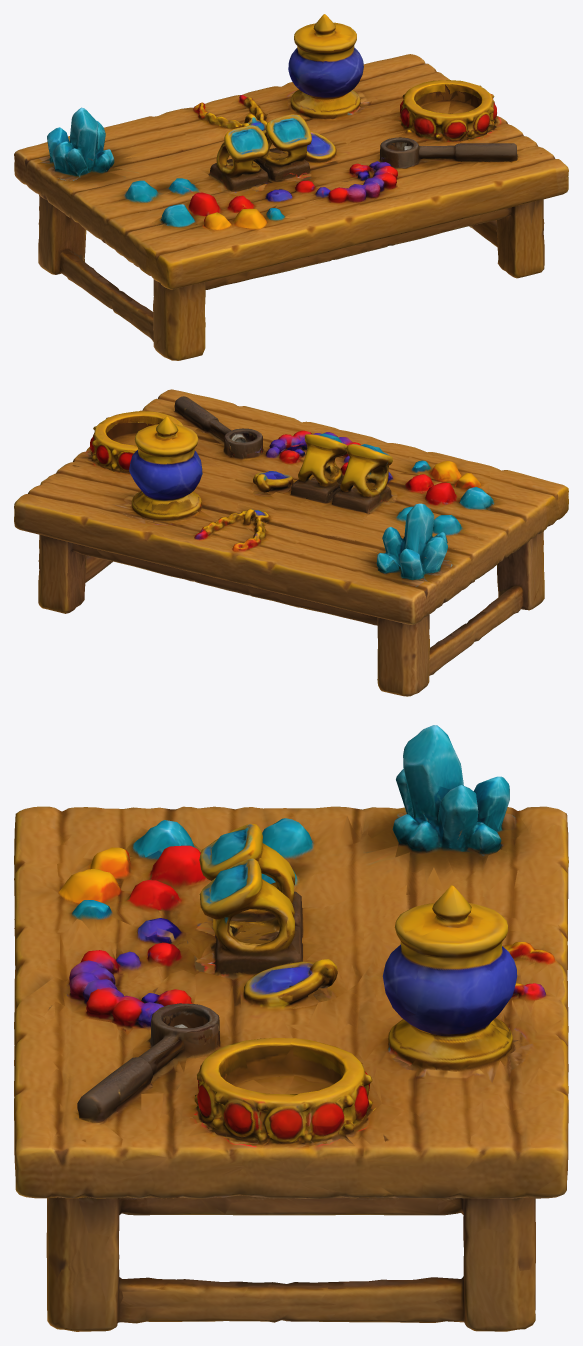
Rendered from jewel_table_LOD.fbx.
3 views of the same model, one above another, from view 1: azimuth 30°, elevation 25°; view 2: azimuth 150°, elevation 25°; view 3: azimuth 270°, elevation 25° (orthographic). The views are drawn at different scales.
Parts seen in each view (by area): view 1: jewel_table_LOD0; view 2: jewel_table_LOD0; view 3: jewel_table_LOD0.
Part boxes in pixels (x1,y1,x2,y2): jewel_table_LOD0: (14, 14, 568, 360); jewel_table_LOD0: (14, 389, 568, 696); jewel_table_LOD0: (14, 725, 568, 1331).
Size of what is drawn, in the model's own units: 191 by 91.37 by 130.
Materials: 1 (1 with a texture image).
